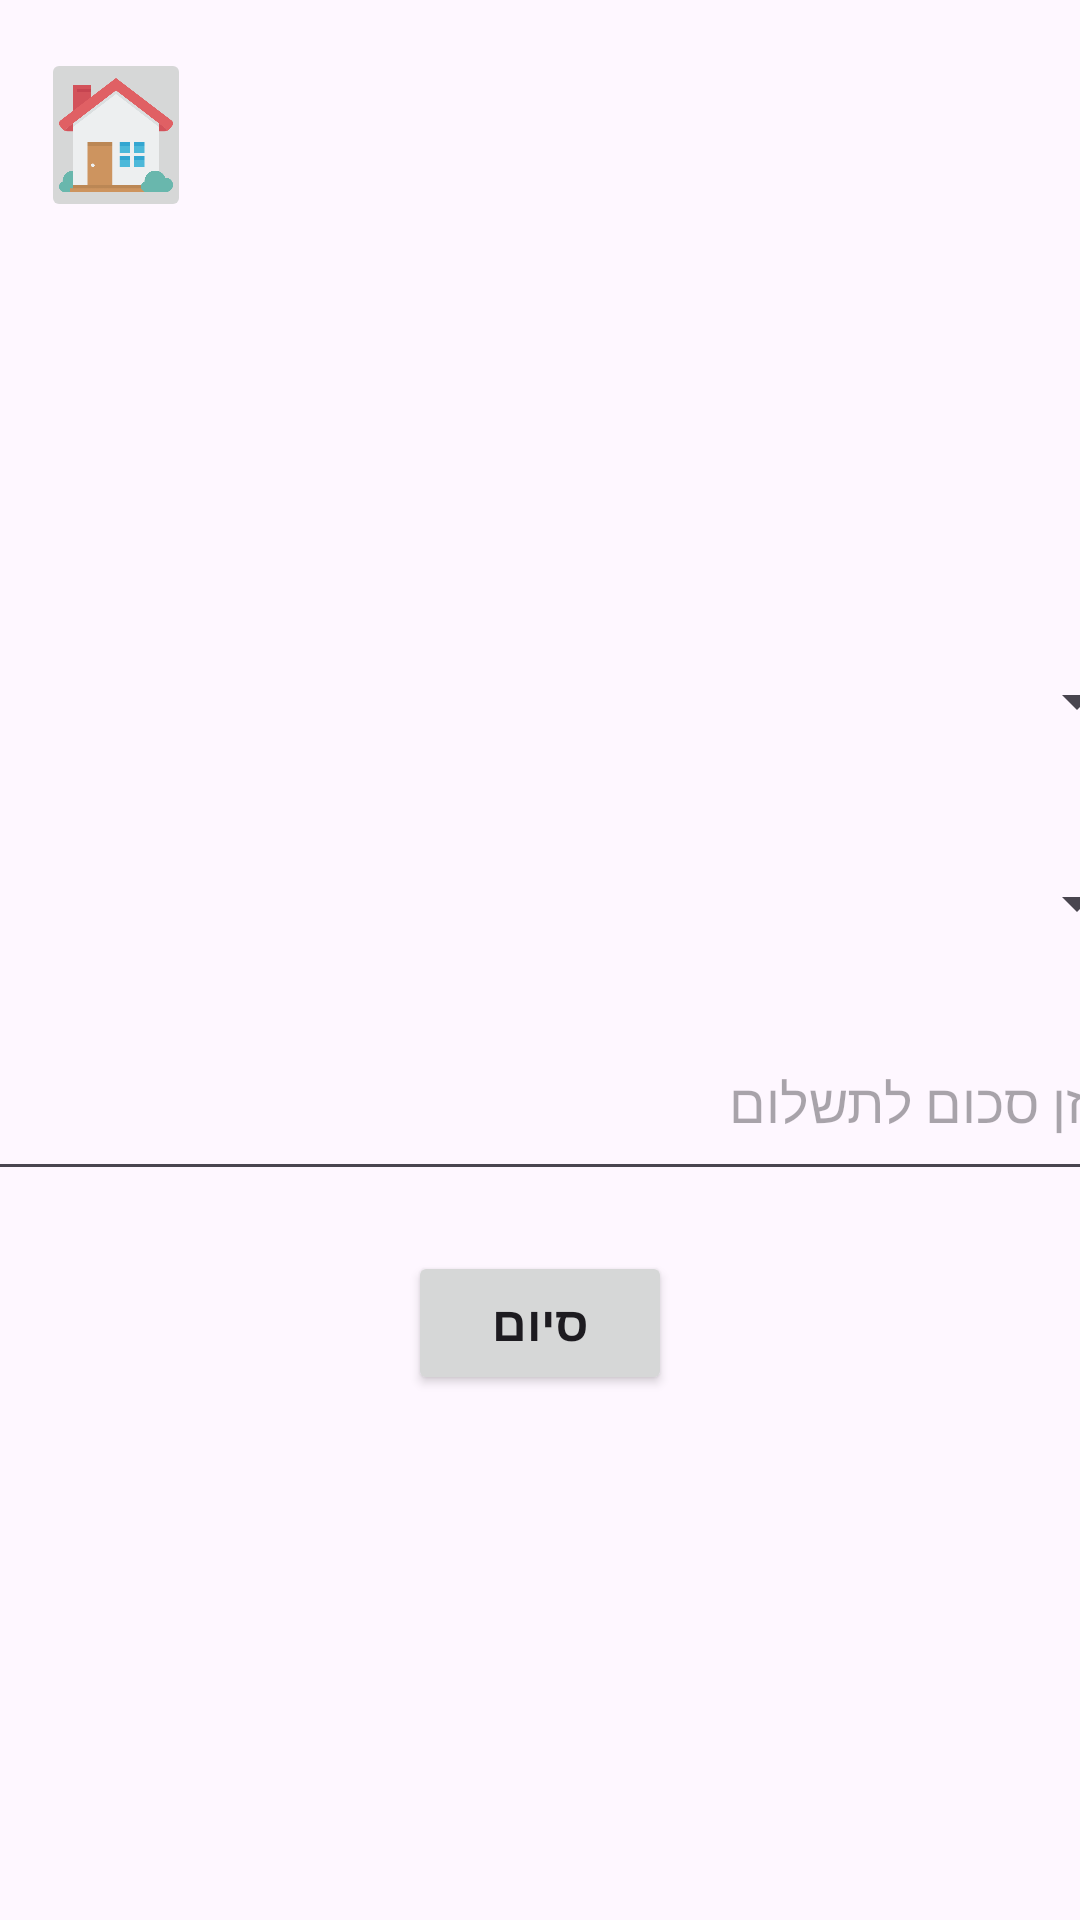

Icon click points for this 1080x1920 phone screenshot, format (x,y):
Home button for renter homepage: (116,135)
